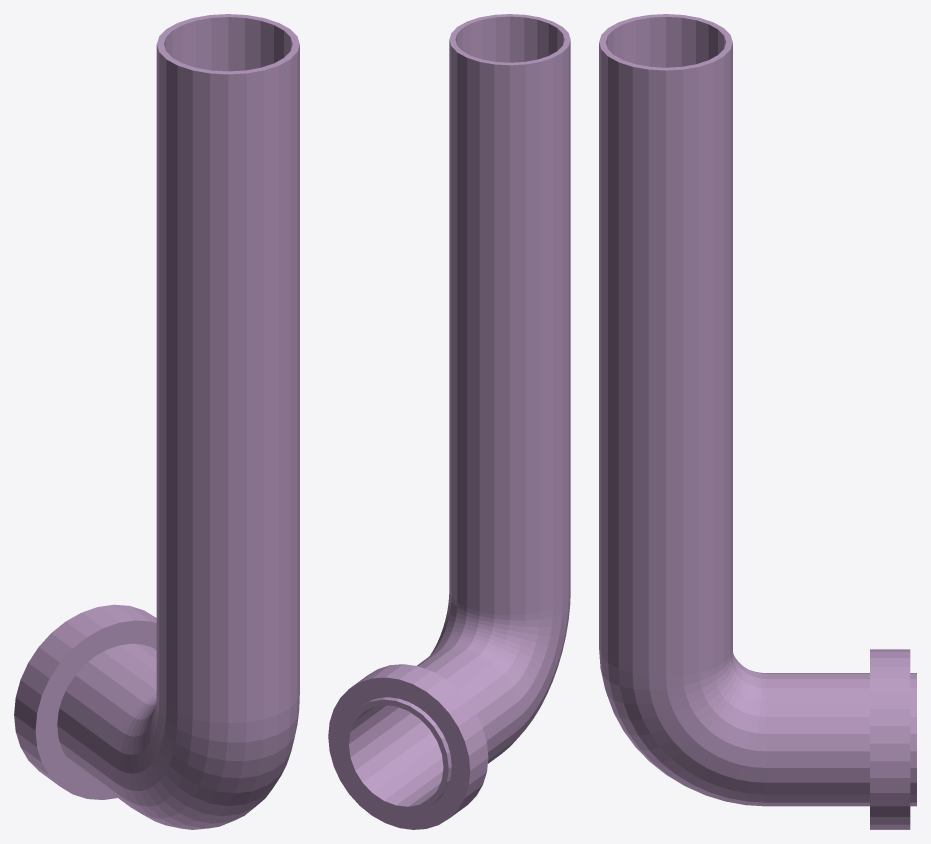
3 renders of one model, left to right at view 1: azimuth 30°, elevation 25°; view 2: azimuth 150°, elevation 25°; view 3: azimuth 270°, elevation 25°, orthographic. The views are drawn at different scales.
Visible parts, largest first — view 1: geometry_0; view 2: geometry_0; view 3: geometry_0.
Part boxes in pixels (left/top/right/bottom): geometry_0: left=14, top=14, right=299, bottom=829; geometry_0: left=328, top=14, right=570, bottom=829; geometry_0: left=599, top=14, right=916, bottom=829.
Size of the model in its own units: 54 by 257 by 95.
